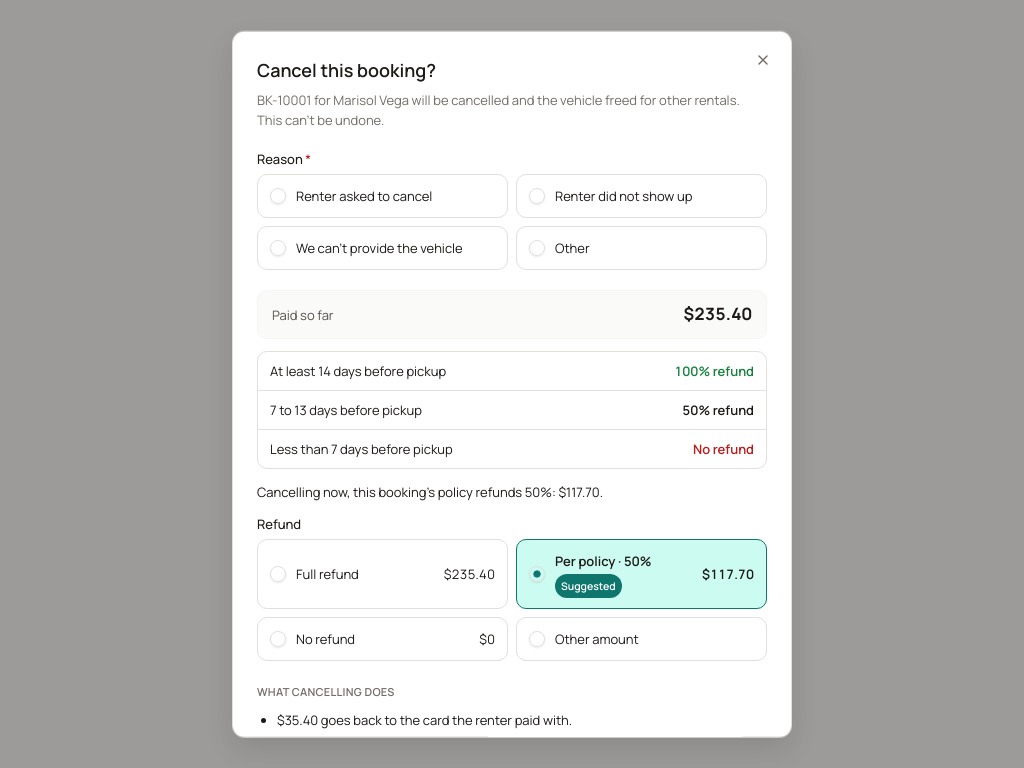
Test case: BookingCancelDialog › says everything else the cancellation undoes before it is confirmed
Click the radio button named "Full refund" next to "Full refund". click: coordinates (278, 574)
box: [270,566,286,582]
(page scrolled)
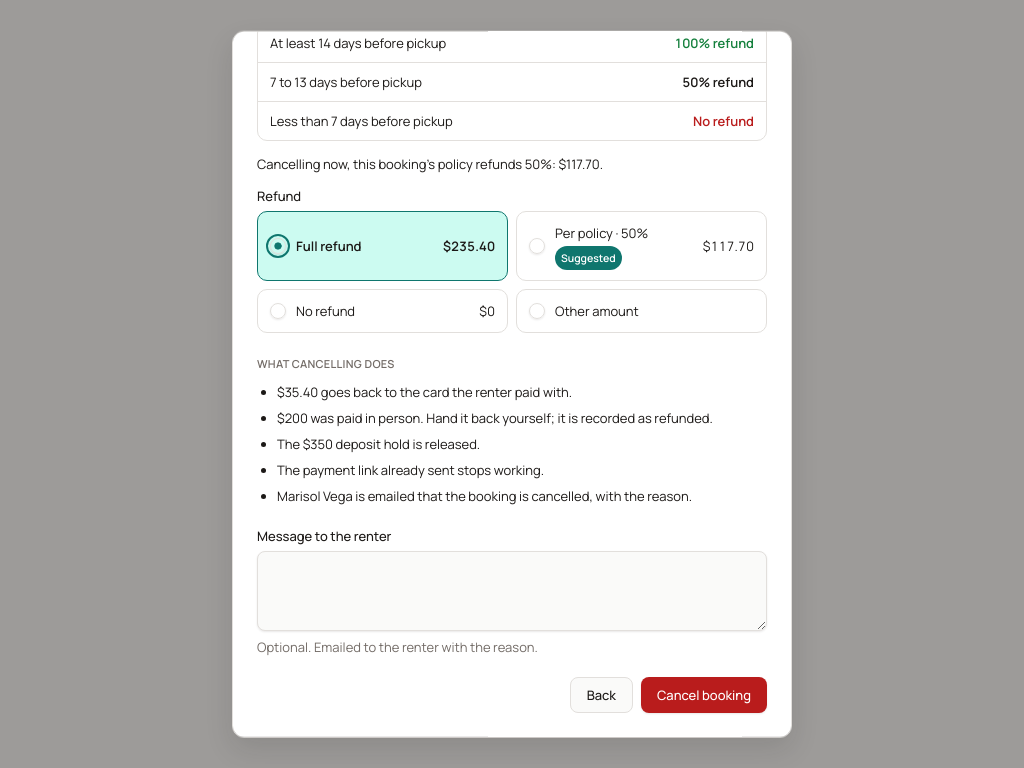
Now the list item "$200 was paid in person. Hand it back yourself; it is recorded as refunded." is shown, box [277,407,767,429]
Now the list item "The $350 deposit hold is released." is shown, box [277,435,480,453]
Now the list item "The payment link already sent stops working." is shown, box [277,461,544,479]
